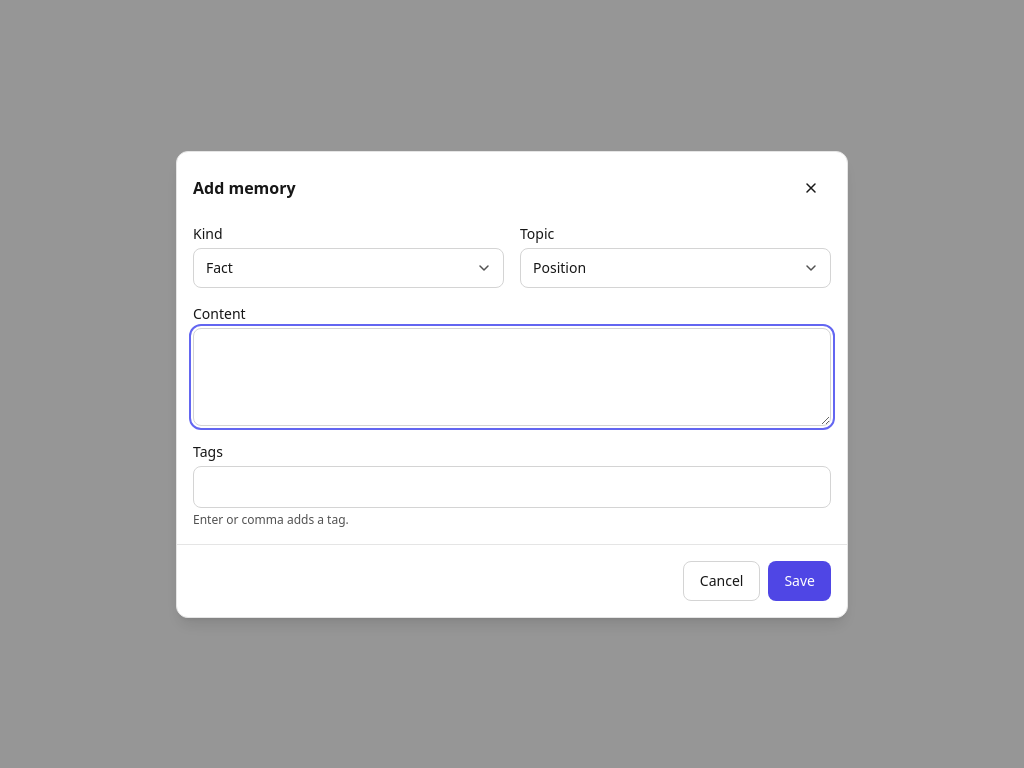
Test case: MemoryFormDialog › shows other failures inside the dialog and stays open
The width and height of the screenshot is (1024, 768).
Type "x" into the text box labelled "Content" at [512, 376], box [193, 328, 831, 426]
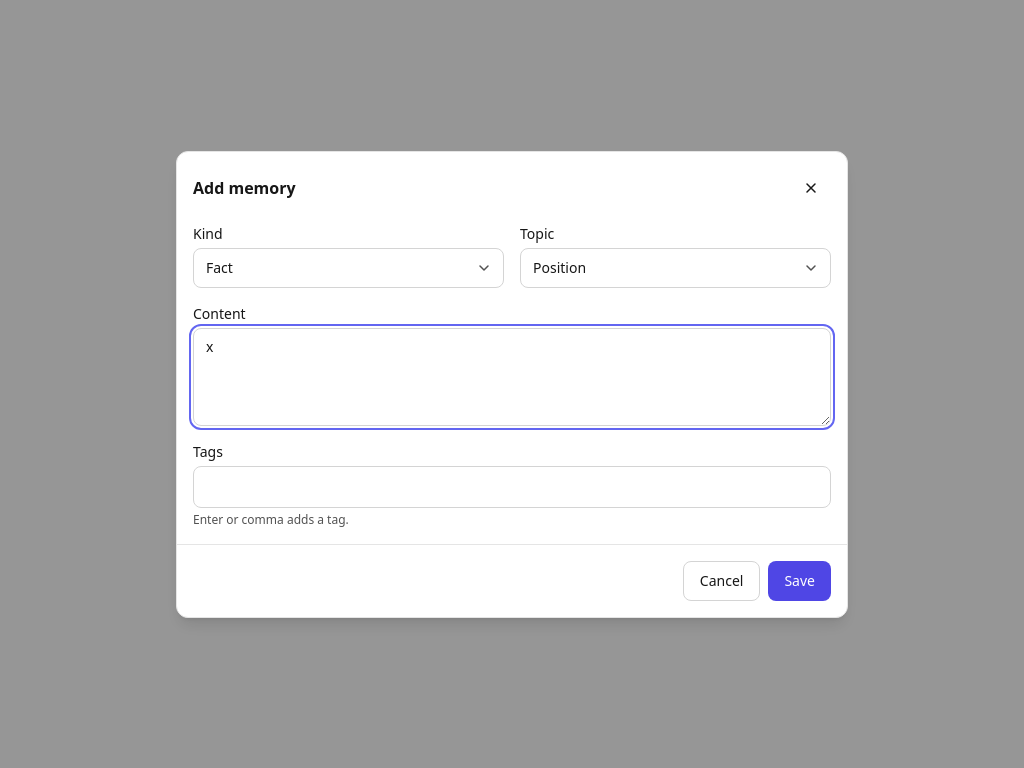
Click the button "Save" at [800, 580], box [768, 560, 831, 600]
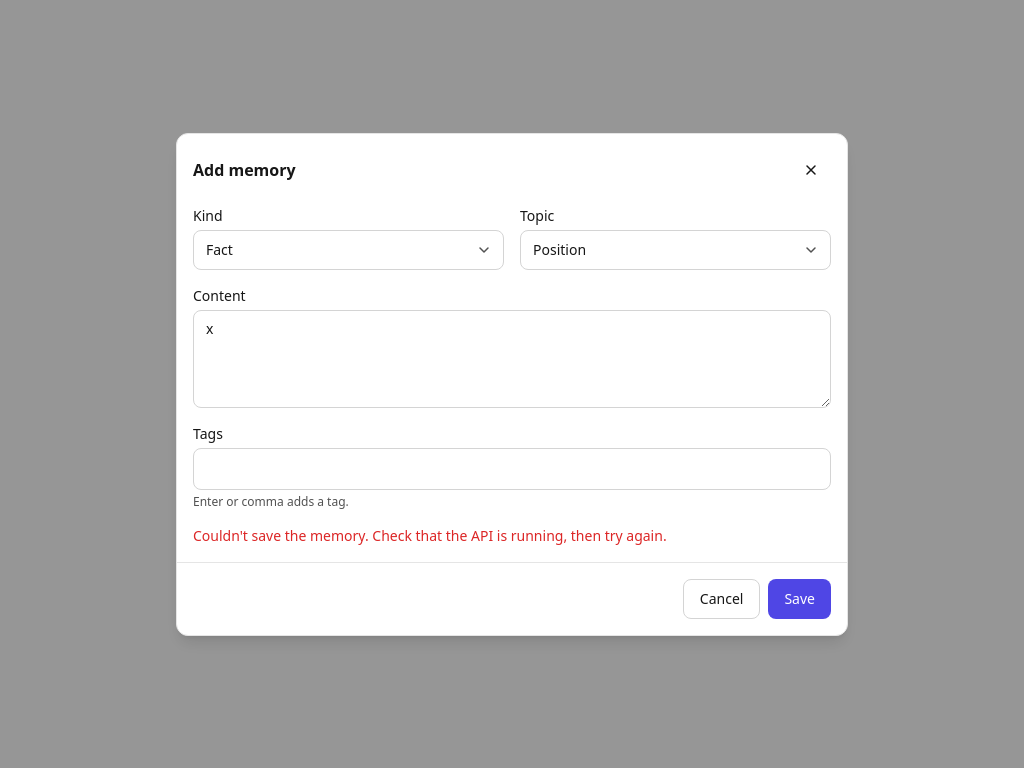
Expected: the dialog is shown, [176, 132, 848, 636]
Expected: the message shows "Couldn't save the memory", [193, 526, 667, 544]
